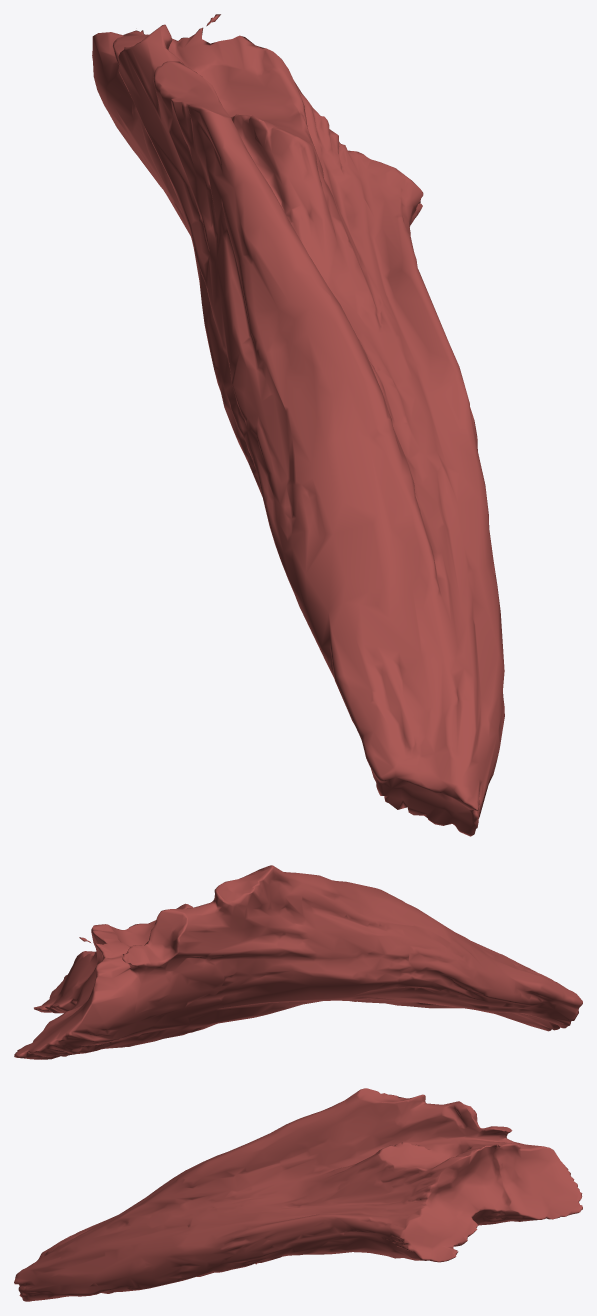
File: FMA46019.glb
3 views of the same model, one above another, from view 1: azimuth 30°, elevation 25°; view 2: azimuth 150°, elevation 25°; view 3: azimuth 270°, elevation 25° (orthographic). The views are drawn at different scales.
Visible parts, largest first — view 1: FMA46019; view 2: FMA46019; view 3: FMA46019.
Part boxes in pixels (x1,y1,x2,y2): FMA46019: (92,14,504,836); FMA46019: (14,865,582,1059); FMA46019: (14,1088,582,1301).
Bounding box in the file's own units: 0.0271 × 0.029 × 0.0646.
